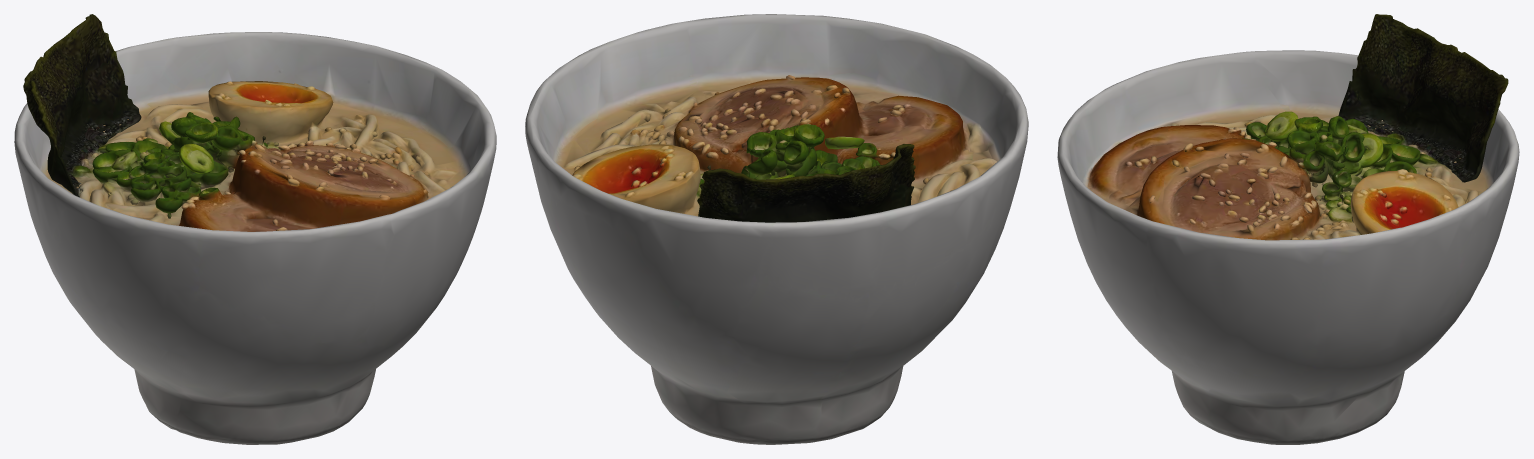
Rendered from ramen.glb.
3 views of the same model, side by side, from view 1: azimuth 30°, elevation 25°; view 2: azimuth 150°, elevation 25°; view 3: azimuth 270°, elevation 25° (orthographic). The views are drawn at different scales.
Visible parts, largest first — view 1: tripo_node_cce34053-8c79-49c1-9e45-66ec7c03a106; view 2: tripo_node_cce34053-8c79-49c1-9e45-66ec7c03a106; view 3: tripo_node_cce34053-8c79-49c1-9e45-66ec7c03a106.
Boxes of the visible parts, x1,y1,x2,y2 form: tripo_node_cce34053-8c79-49c1-9e45-66ec7c03a106: (14,14,496,444); tripo_node_cce34053-8c79-49c1-9e45-66ec7c03a106: (525,14,1028,444); tripo_node_cce34053-8c79-49c1-9e45-66ec7c03a106: (1057,14,1519,444).
Size of the model in its own units: 0.9775 by 0.723 by 0.9795.
Materials: 1 (1 with a texture image).
